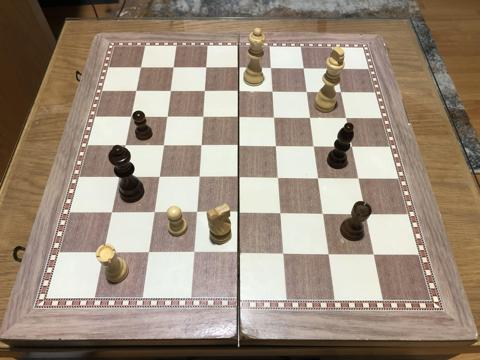xcorner: (266, 62, 278, 75), (233, 62, 245, 75), (167, 62, 180, 74), (198, 86, 211, 98), (341, 112, 354, 124), (197, 111, 209, 124), (232, 140, 245, 152), (194, 140, 207, 152), (273, 172, 285, 185), (190, 207, 202, 220), (277, 249, 290, 261), (141, 247, 154, 259), (96, 247, 109, 259), (332, 63, 344, 75), (299, 63, 311, 75), (200, 62, 212, 74), (135, 62, 147, 74), (336, 86, 348, 98), (302, 86, 314, 98), (267, 86, 279, 98), (233, 86, 245, 98), (164, 86, 176, 98), (130, 85, 142, 97), (305, 112, 317, 124), (269, 112, 281, 124), (233, 112, 245, 124), (161, 111, 173, 123), (125, 111, 137, 123), (347, 141, 359, 153), (309, 141, 321, 153), (271, 141, 283, 153), (157, 140, 169, 152), (119, 140, 131, 152), (354, 173, 366, 185), (313, 173, 325, 185), (232, 172, 244, 184), (192, 172, 204, 184), (152, 172, 164, 184), (112, 171, 124, 183), (361, 209, 373, 221), (318, 209, 330, 221), (275, 208, 287, 220), (232, 208, 244, 220), (147, 207, 159, 219), (105, 207, 117, 219), (369, 250, 381, 262), (323, 249, 335, 261), (232, 248, 244, 260), (187, 248, 199, 260)
